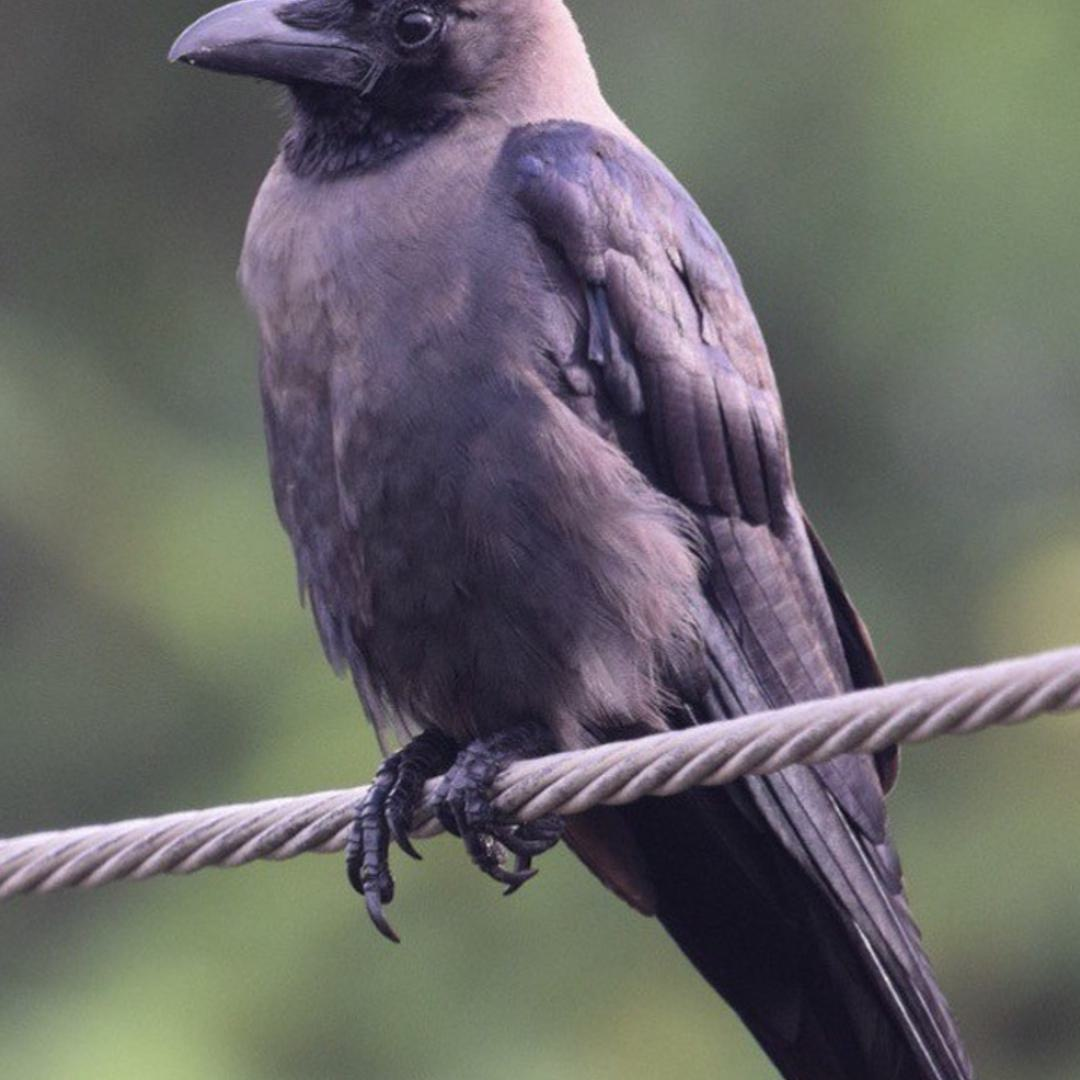crow: (141, 1, 975, 1080)
